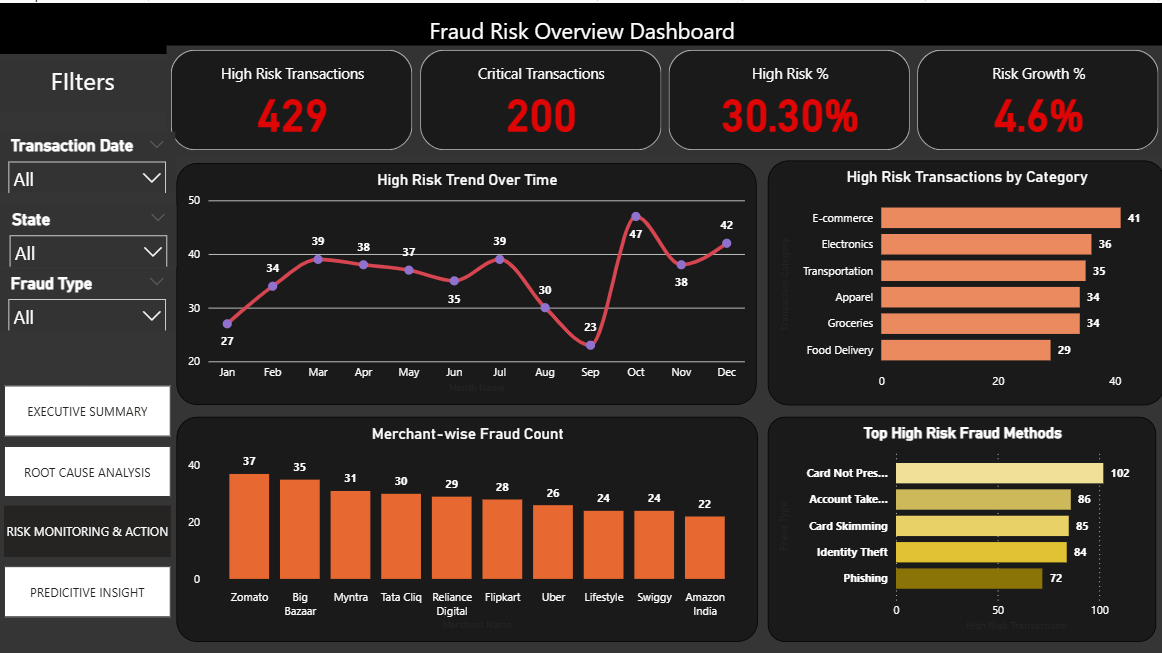

The page's visual inventory and layout, read from the dashboard file:
{"tool":"powerbi","page":{"name":"RISK MONITORING & ACTION","canvas":[1280,720],"ordinal":2},"visuals":[{"type":"textbox","box":[0,0,1280.3,46.7],"z":0},{"type":"textbox","box":[0,10,1280.3,46.7],"z":1000},{"type":"cardVisual","fields":{"Data":["Credit Card Fraud Risk Analysis.High Risk Transactions","Credit Card Fraud Risk Analysis.Critical Transactions","Credit Card Fraud Risk Analysis.High Risk %","Credit Card Fraud Risk Analysis.Risk Growth %"]},"box":[183.6,46.7,1096.4,120.8],"z":2000},{"type":"lineChart","title":"High Risk Trend Over Time","fields":{"Category":["Date Table.Month Name"],"Y":["Credit Card Fraud Risk Analysis.High Risk Transactions"]},"box":[194.3,175.7,637.1,265.7],"z":3000},{"type":"slicer","fields":{"Values":["Credit Card Fraud Risk Analysis.Transaction Date.Variation.Date Hierarchy.Month"]},"box":[0,141.3,193.5,67.2],"z":4000},{"type":"textbox","box":[0,61.7,183.9,59],"z":5000},{"type":"slicer","fields":{"Values":["Credit Card Fraud Risk Analysis.State"]},"box":[1.4,222.3,193.5,67.2],"z":6000},{"type":"slicer","fields":{"Values":["Credit Card Fraud Risk Analysis.Fraud Type"]},"box":[0,292.3,193.5,67.2],"z":7000},{"type":"clusteredBarChart","title":"High Risk Transactions by Category","fields":{"Y":["Credit Card Fraud Risk Analysis.High Risk Transactions"],"Category":["Credit Card Fraud Risk Analysis.Transaction Category"]},"box":[843.9,172.9,436.4,269],"z":8000},{"type":"clusteredBarChart","title":"Top High Risk Fraud Methods","fields":{"Category":["Credit Card Fraud Risk Analysis.Fraud Type"],"Y":["Credit Card Fraud Risk Analysis.High Risk Transactions"]},"box":[843.9,454.2,426.8,247],"z":9000},{"type":"pageNavigator","box":[5.5,419.9,183.9,255.2],"z":10000},{"type":"columnChart","title":"Merchant-wise Fraud Count","fields":{"Category":["Credit Card Fraud Risk Analysis.Merchant Name"],"Y":["Sum(Credit Card Fraud Risk Analysis.IsFraud)"]},"box":[194.9,454.2,638.1,247],"z":11000}]}

Visuals, with their boxes in screenshot pixels (x1, y1, x2, y2), scaled from the page's 1280x720 canvas onto the 1162x653 screenshot:
textbox: x1=0 y1=0 x2=1161 y2=42
textbox: x1=0 y1=9 x2=1161 y2=51
cardVisual - Credit Card Fraud Risk Analysis.High Risk Transactions x Credit Card Fraud Risk Analysis.Critical Transactions: x1=167 y1=42 x2=1161 y2=152
"High Risk Trend Over Time" lineChart: x1=176 y1=159 x2=755 y2=400
slicer - Credit Card Fraud Risk Analysis.Transaction Date.Variation.Date Hierarchy.Month: x1=0 y1=128 x2=176 y2=189
textbox: x1=0 y1=56 x2=167 y2=109
slicer - Credit Card Fraud Risk Analysis.State: x1=1 y1=202 x2=177 y2=263
slicer - Credit Card Fraud Risk Analysis.Fraud Type: x1=0 y1=265 x2=176 y2=326
"High Risk Transactions by Category" clusteredBarChart: x1=766 y1=157 x2=1161 y2=401
"Top High Risk Fraud Methods" clusteredBarChart: x1=766 y1=412 x2=1154 y2=636
pageNavigator: x1=5 y1=381 x2=172 y2=612
"Merchant-wise Fraud Count" columnChart: x1=177 y1=412 x2=756 y2=636
